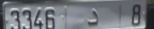3: (21, 7, 33, 29), (10, 7, 21, 29)
4: (33, 7, 43, 29)
6: (43, 6, 58, 29)
8: (132, 3, 141, 26)
d: (85, 7, 101, 27)
